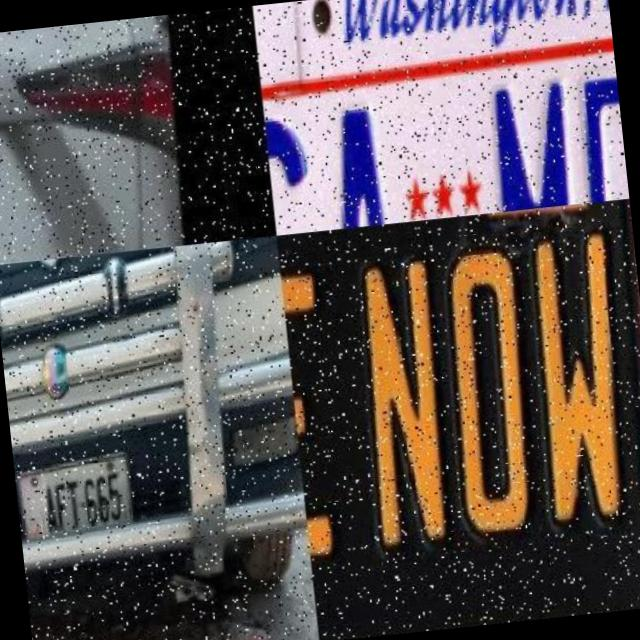LicensePlate: (277, 208, 640, 610), (258, 30, 628, 236), (12, 446, 144, 548), (0, 136, 36, 262)
